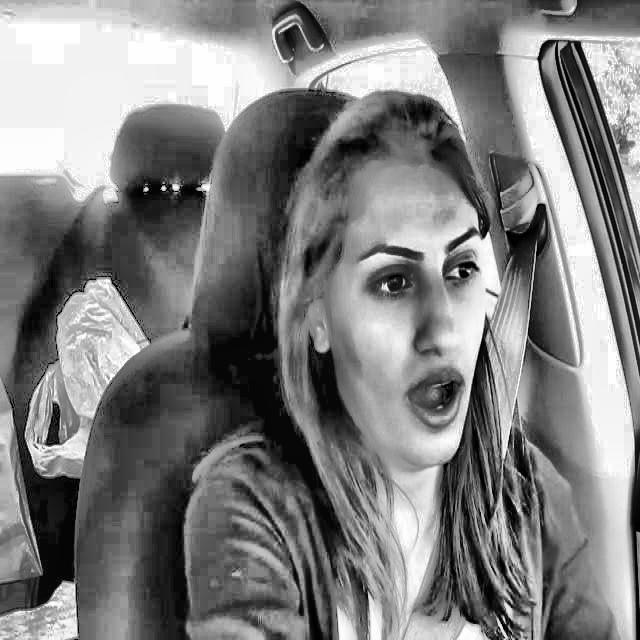open_eyes: (353, 254, 419, 307), (433, 245, 486, 291)
open_mouth: (391, 358, 483, 442)
